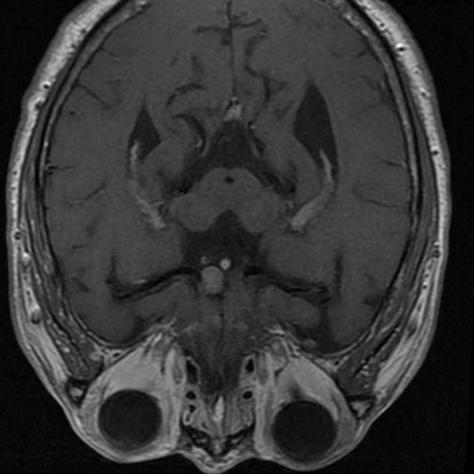Tumour-Pituitary: (197, 253, 237, 298)
